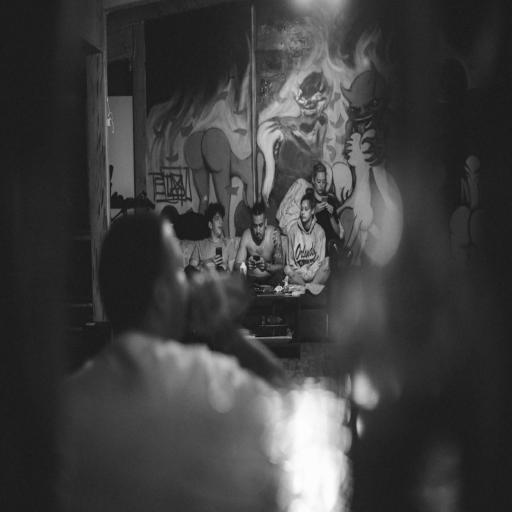face: (252, 214, 267, 243), (209, 214, 223, 237), (301, 200, 313, 225), (313, 173, 326, 196)
